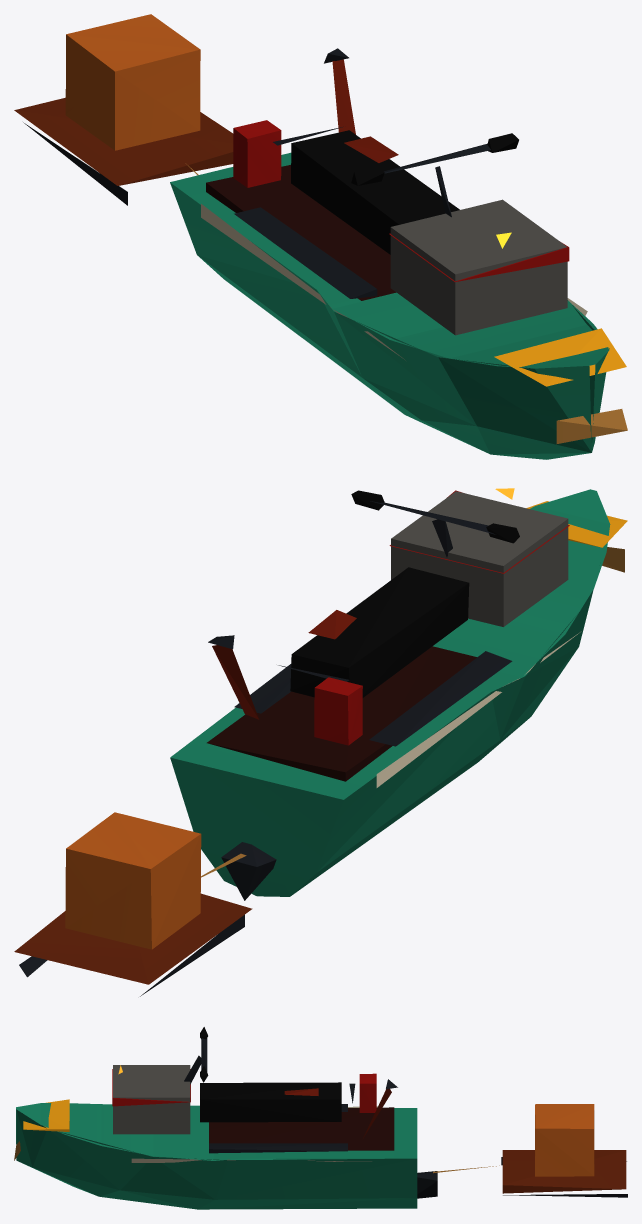
The model's file is tb_waverunner.three-web-toon.lod25.glb.
3 views of the same model, one above another, from view 1: azimuth 30°, elevation 25°; view 2: azimuth 150°, elevation 25°; view 3: azimuth 270°, elevation 25° (orthographic). The views are drawn at different scales.
Visible parts, largest first — view 1: tb_waverunner_mesh_lod, waverunner_sled_mesh_lod, waverunner_bars_mesh_lod; view 2: tb_waverunner_mesh_lod, waverunner_sled_mesh_lod, waverunner_bars_mesh_lod; view 3: tb_waverunner_mesh_lod, waverunner_sled_mesh_lod, waverunner_bars_mesh_lod.
Boxes of the visible parts, x1,y1,x2,y2 form: tb_waverunner_mesh_lod: (170, 48, 627, 459); waverunner_sled_mesh_lod: (14, 14, 233, 205); waverunner_bars_mesh_lod: (351, 133, 518, 217); tb_waverunner_mesh_lod: (170, 488, 627, 900); waverunner_sled_mesh_lod: (14, 812, 252, 996); waverunner_bars_mesh_lod: (351, 490, 519, 557); tb_waverunner_mesh_lod: (14, 1065, 437, 1209); waverunner_sled_mesh_lod: (433, 1104, 627, 1197); waverunner_bars_mesh_lod: (184, 1027, 208, 1084).
Size of the model in its own units: 0.8477 by 1.09 by 3.97.
